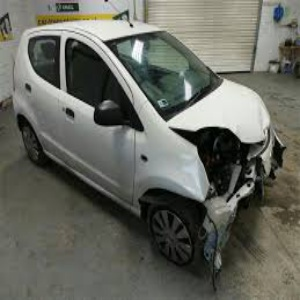bonnet: (203, 97, 273, 149)
bumper: (202, 175, 259, 252)
